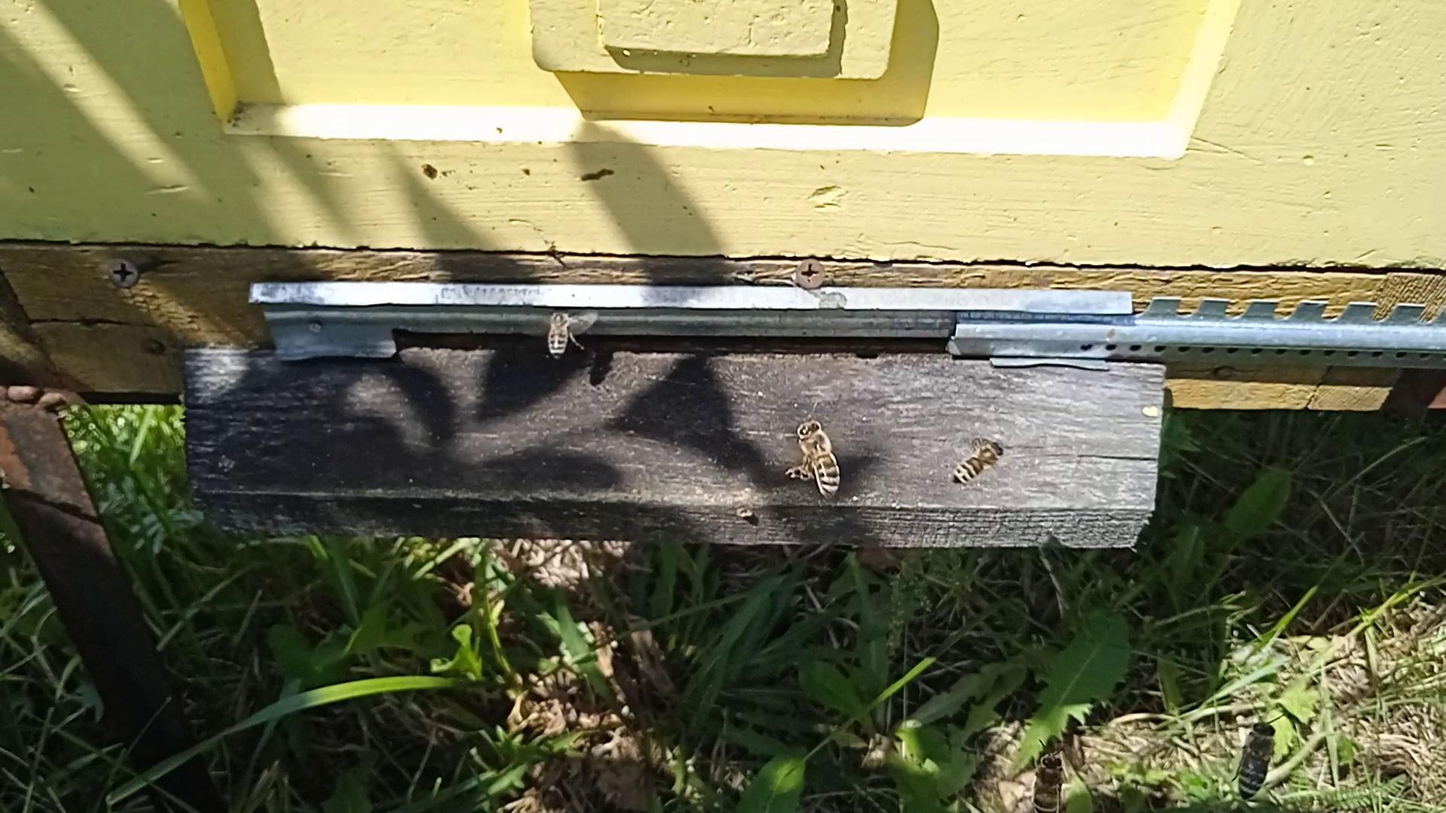worker-bee: (794, 419, 842, 498), (1235, 720, 1281, 800), (951, 440, 1005, 484), (1031, 752, 1069, 813), (545, 309, 577, 360)
